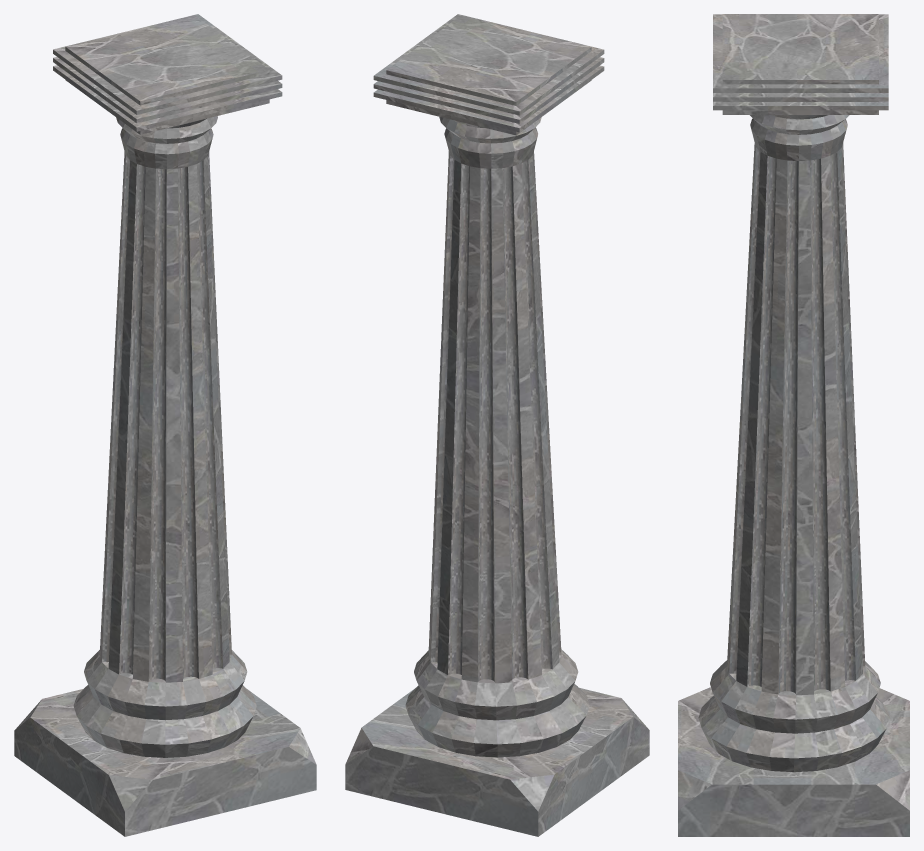
The model's file is Pillar Full.fbx.
3 views of the same model, side by side, from view 1: azimuth 30°, elevation 25°; view 2: azimuth 150°, elevation 25°; view 3: azimuth 270°, elevation 25° (orthographic). The views are drawn at different scales.
Parts seen in each view (by area): view 1: Model; view 2: Model; view 3: Model.
Boxes of the visible parts, box(x1,y1,x2,y2) form: Model: box(14, 14, 316, 836); Model: box(345, 14, 649, 836); Model: box(678, 14, 909, 836).
Size of the model in its own units: 48 by 170 by 48.
